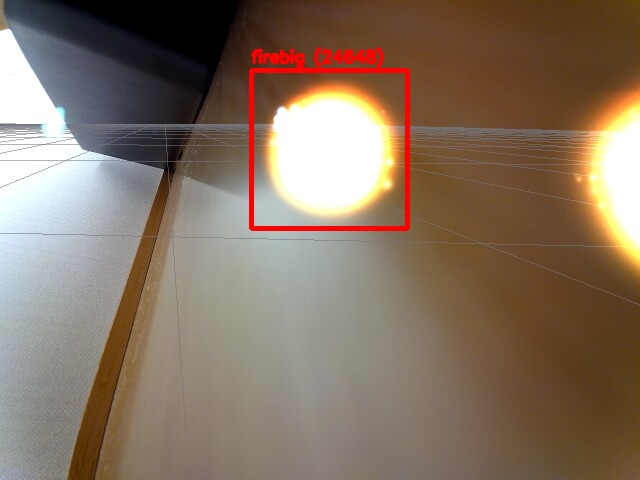firebig: (251, 70, 407, 228)
